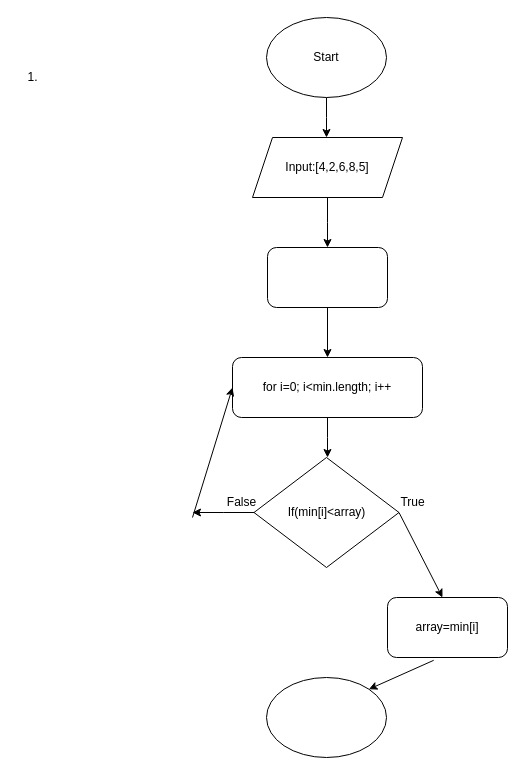
Some shapes in this 525 by 775 pixel diagram are drawn without their labels. Here are the shapes that lost their labels. From the top down, the centre of each, then its label:
At pixel 327 277: "let array = min[0]".
At pixel 326 717: "End".
